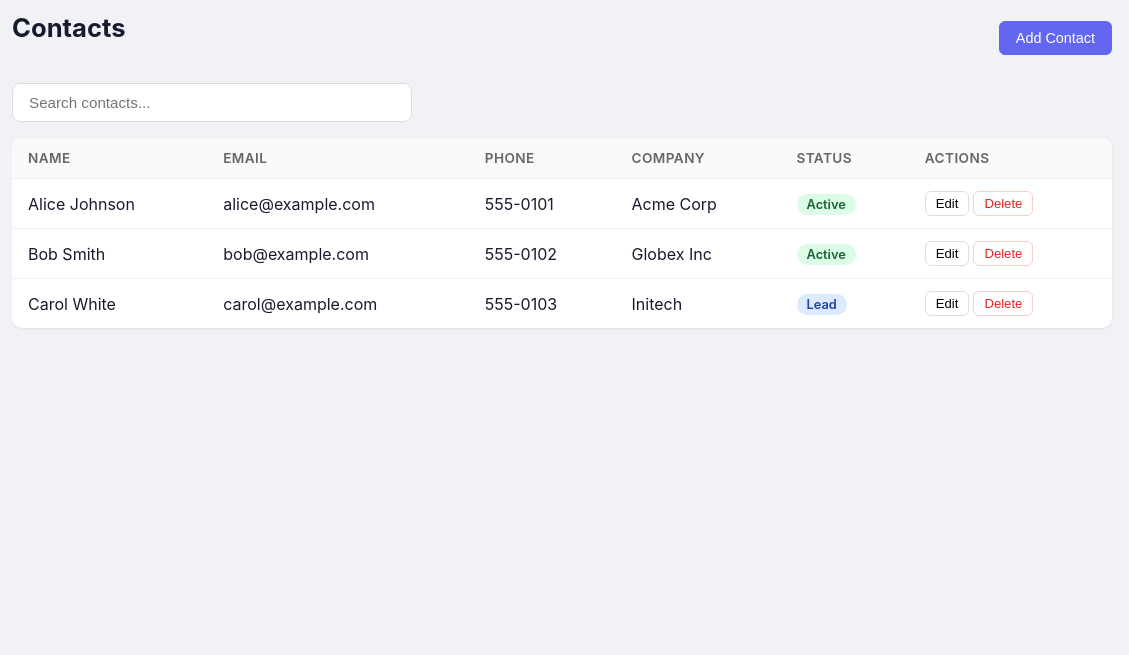
Test: Contacts › opens edit form with contact data
The image size is (1129, 655).
Click the button "Edit" in the row of "Alice Johnson".
click(947, 204)  # box [925,191,969,216]
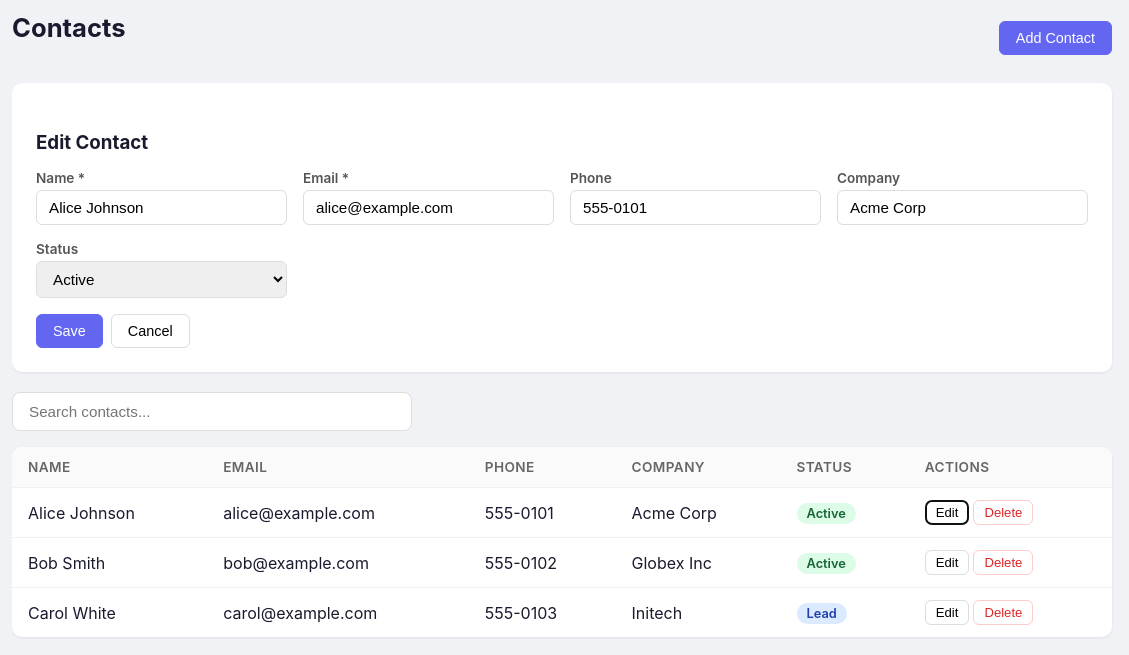
Expected: the heading "Edit Contact" is shown, [36,131,148,154]
Expected: the field showing "Alice Johnson" is shown, [36,190,287,225]
Expected: the field showing "alice@example.com" is shown, [303,190,554,225]
